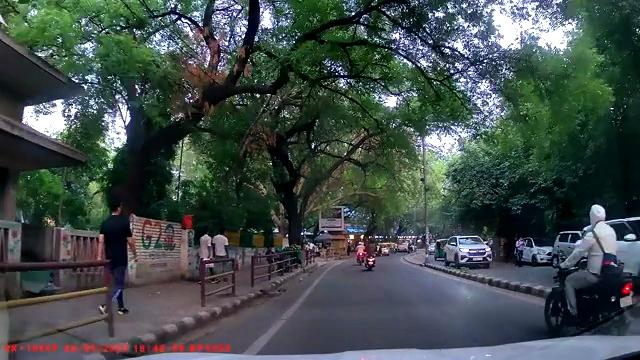motorcycle_without_helmet: (543, 203, 635, 335)
